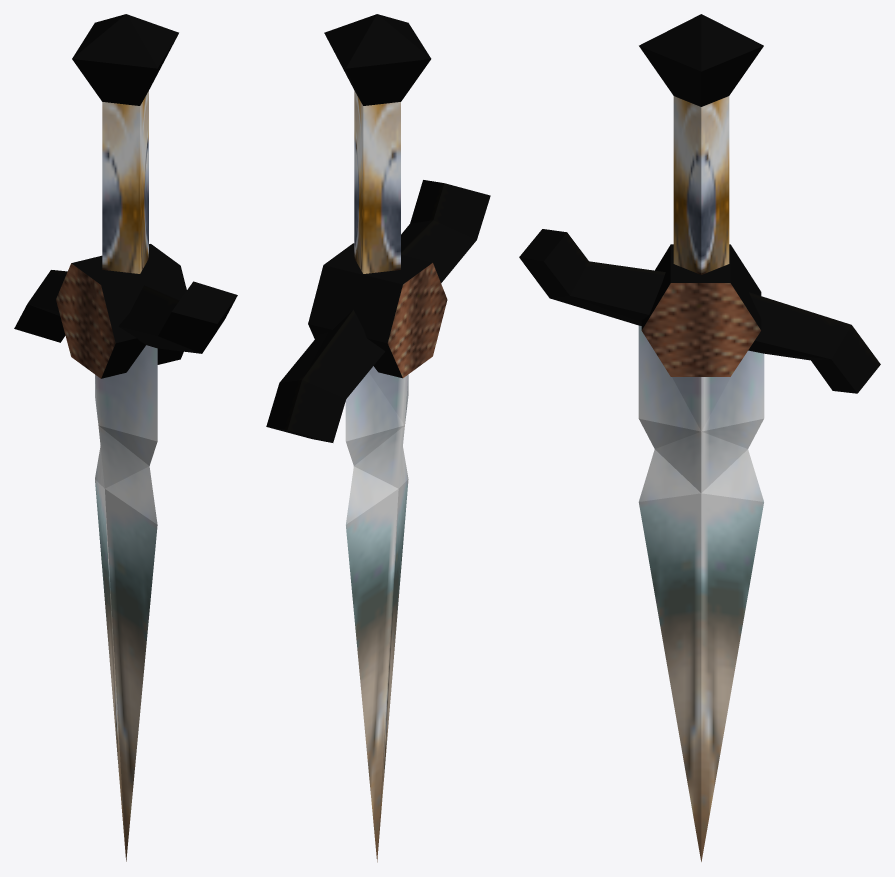
The model's file is twinblade02.obj.
3 renders of one model, left to right at view 1: azimuth 30°, elevation 25°; view 2: azimuth 150°, elevation 25°; view 3: azimuth 270°, elevation 25°, orthographic.
Visible parts, largest first — view 1: cwdhsw02l; view 2: cwdhsw02l; view 3: cwdhsw02l.
Boxes of the visible parts, x1,y1,x2,y2 form: cwdhsw02l: (14,14,237,861); cwdhsw02l: (266,14,490,862); cwdhsw02l: (519,14,880,861).
Size of the model in its own units: 0.1062 by 0.8025 by 0.31.
